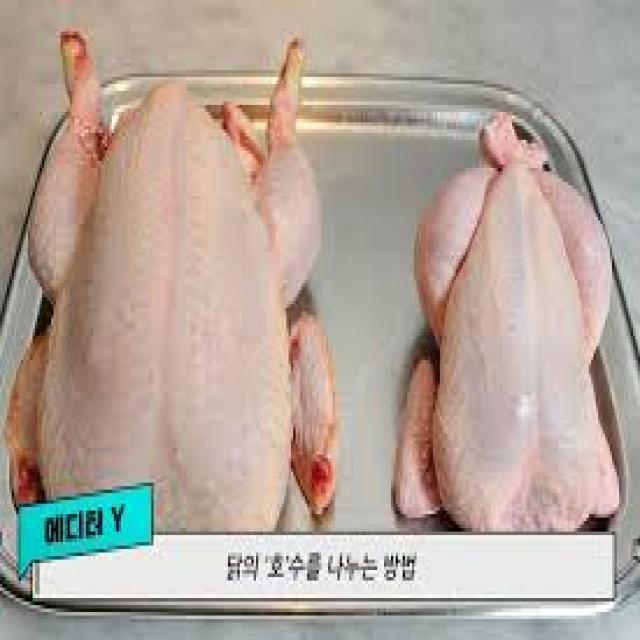chicken: (3, 39, 334, 534), (393, 116, 623, 531)
